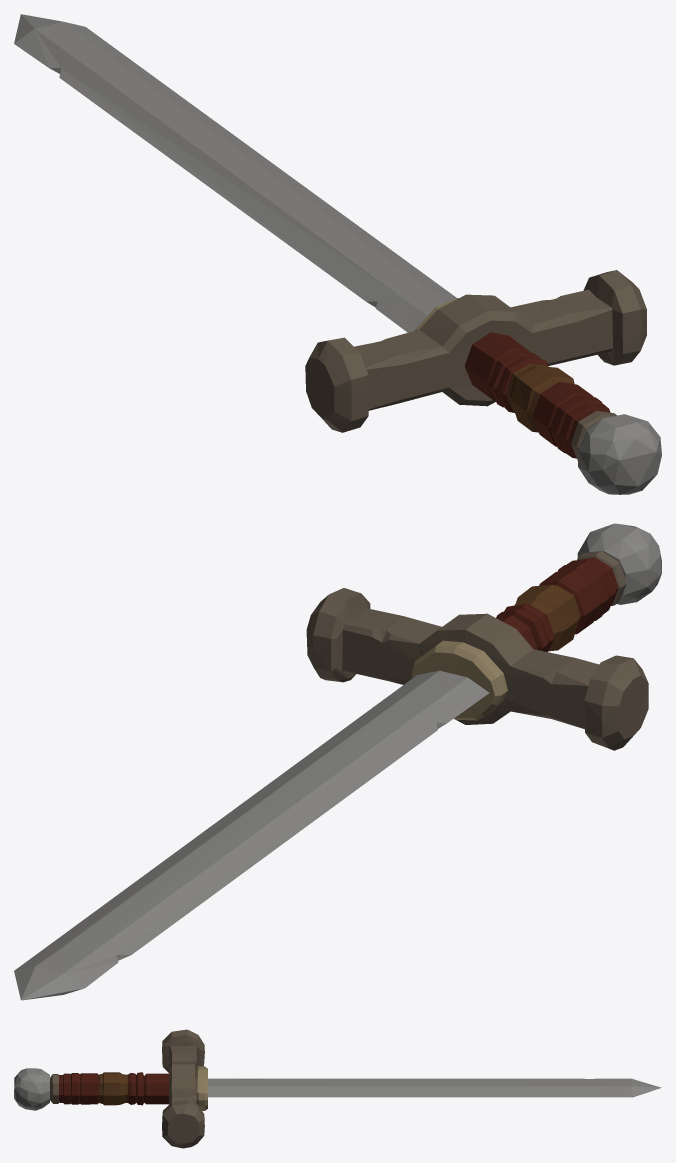
The model's file is IronGreatsword.fbx.
3 views of the same model, one above another, from view 1: azimuth 30°, elevation 25°; view 2: azimuth 150°, elevation 25°; view 3: azimuth 270°, elevation 25° (orthographic). The views are drawn at different scales.
Parts seen in each view (by area): view 1: IronGreatsword; view 2: IronGreatsword; view 3: IronGreatsword.
Part boxes in pixels (x1,y1,x2,y2): IronGreatsword: (14,14,661,494); IronGreatsword: (14,523,661,1000); IronGreatsword: (14,1029,661,1148).
Bounding box in the file's own units: 0.5899 × 2.01 × 0.1711.
